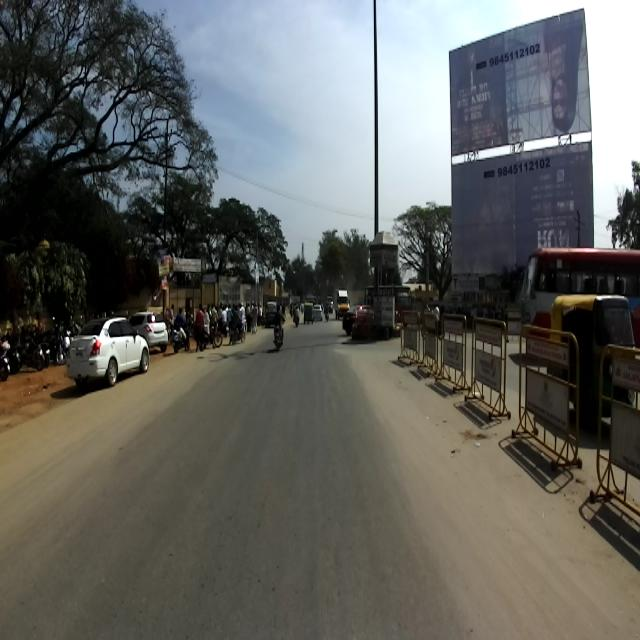barrier ahead at: (393, 305, 640, 523)
car ahead at: (67, 310, 152, 394)
